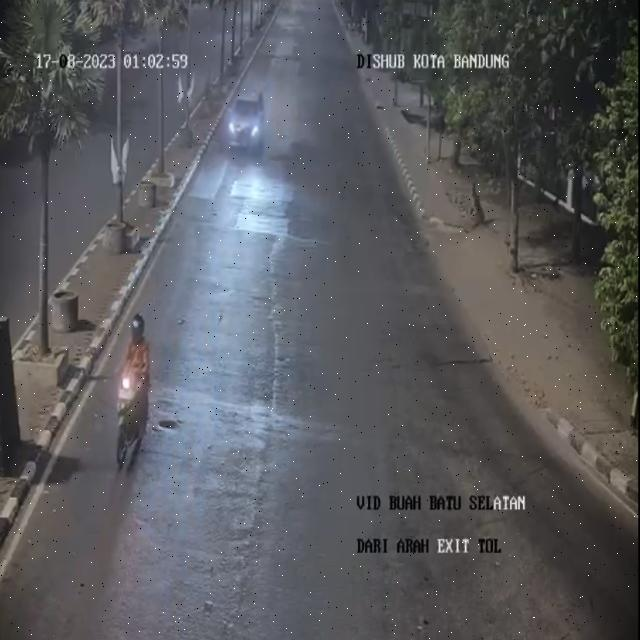cars: (226, 83, 268, 166)
motorcycle: (102, 302, 156, 464)
